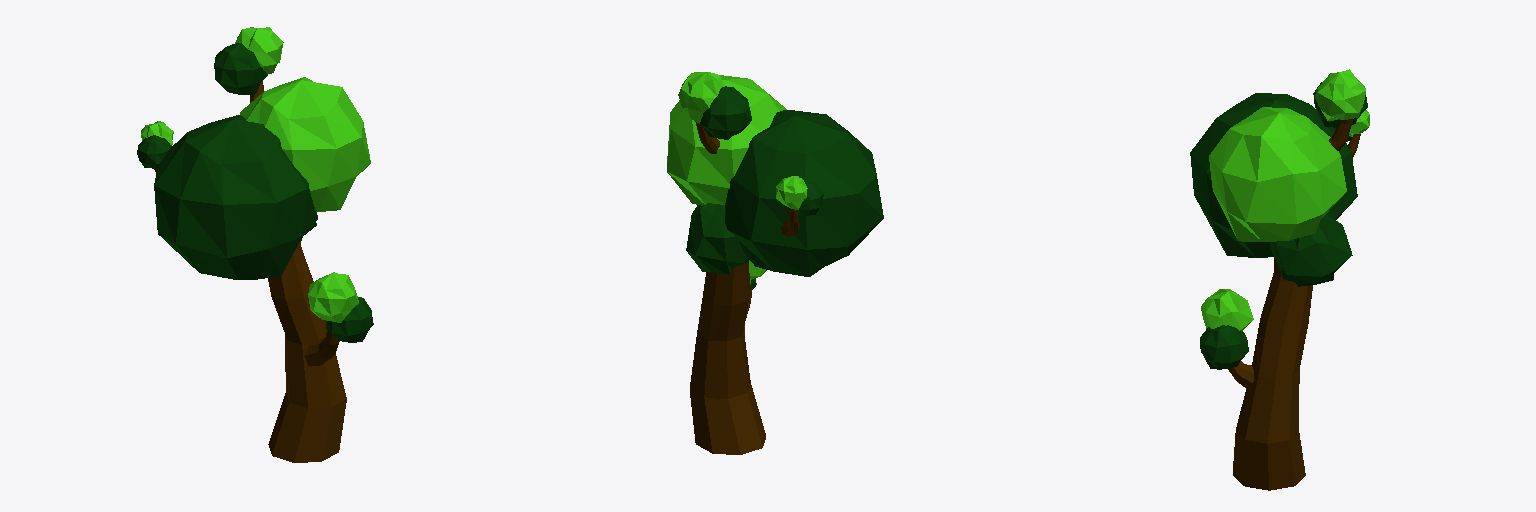
File: tree1.obj
The picture shows the model from 3 angles: view 1: azimuth 30°, elevation 25°; view 2: azimuth 150°, elevation 25°; view 3: azimuth 270°, elevation 25°; orthographic projection.
Parts seen in each view (by area): view 1: Circle; view 2: Circle; view 3: Circle.
Boxes of the visible parts, box(x1,y1,x2,y2) form: Circle: box(137, 27, 373, 462); Circle: box(667, 72, 883, 454); Circle: box(1190, 69, 1369, 490).
Bounding box in the file's own units: 6.18 × 11.96 × 4.9.